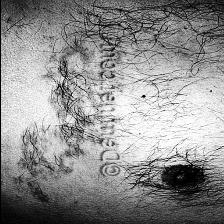Potentially Malignant Skin Tumors: (55, 48, 88, 144), (24, 140, 71, 174)
